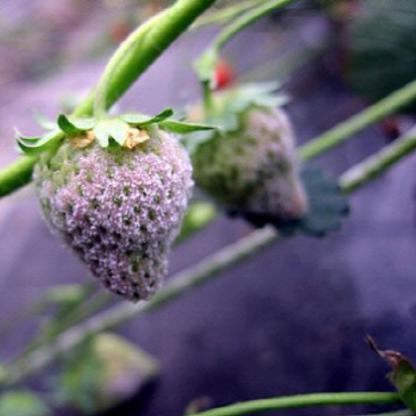Strawberry_Powdery_Mildew_Fruit: (36, 113, 192, 302), (182, 89, 306, 227)
